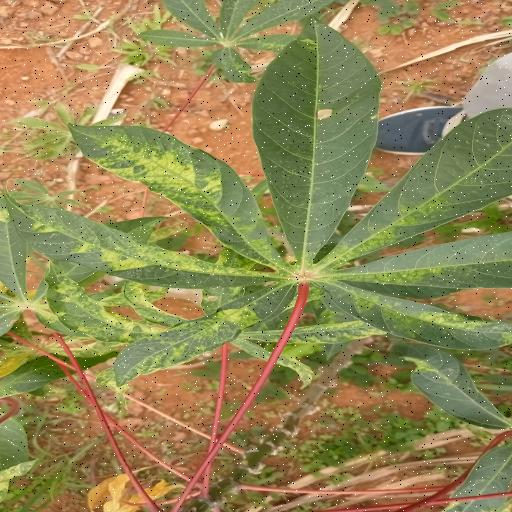Cassava_Mosaic: (0, 15, 512, 388)
